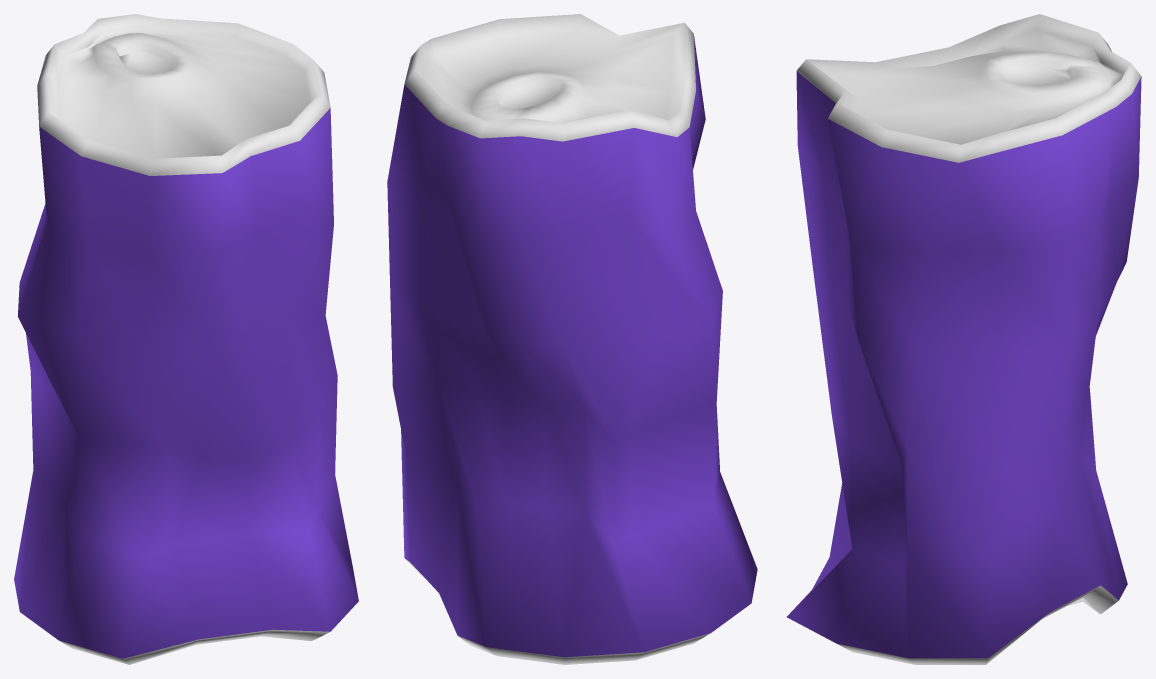
File: lataDestruida3.glb
The picture shows the model from 3 angles, left to right: view 1: azimuth 30°, elevation 25°; view 2: azimuth 150°, elevation 25°; view 3: azimuth 270°, elevation 25°; orthographic projection. The views are drawn at different scales.
Parts seen in each view (by area): view 1: Cylinder.003; view 2: Cylinder.003; view 3: Cylinder.003.
Boxes of the visible parts, x1,y1,x2,y2 form: Cylinder.003: (14, 14, 358, 664); Cylinder.003: (387, 14, 757, 664); Cylinder.003: (786, 14, 1141, 664).
Bounding box in the file's own units: 1.27 × 2.11 × 1.26.
